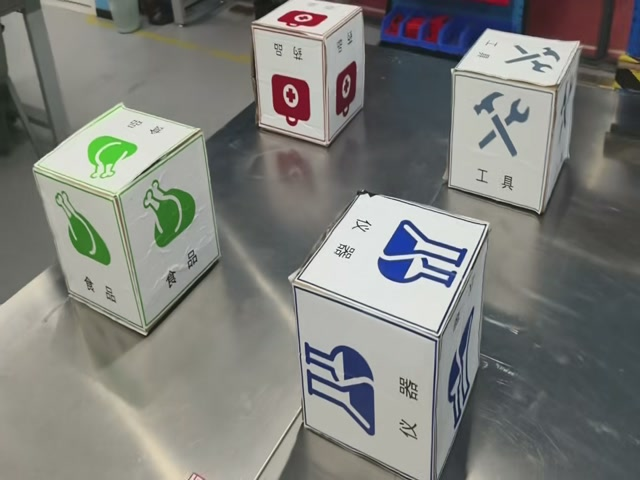Cube_food: (34, 105, 203, 196)
Cube_ins: (292, 193, 488, 344)
Cube_medicine: (252, 0, 361, 44)
Cube_tool: (453, 30, 578, 93)
